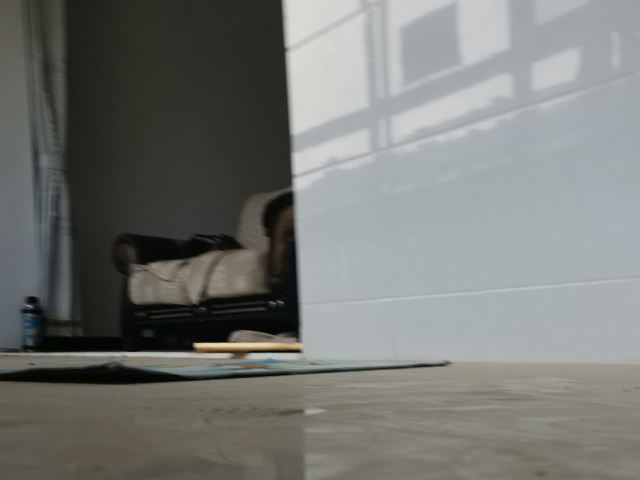carpet: (1, 354, 453, 385)
curtain: (17, 1, 86, 343)
sofa: (108, 184, 304, 354)
